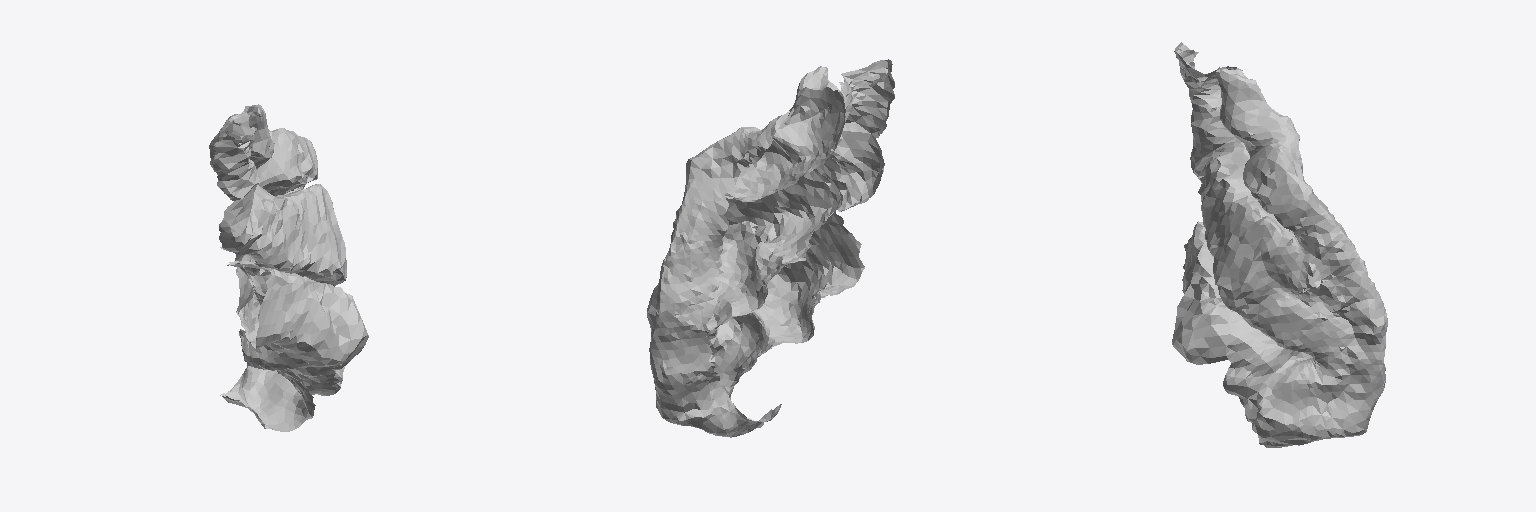
The model's file is R_lingual.obj.
3 renders of one model, left to right at view 1: azimuth 30°, elevation 25°; view 2: azimuth 150°, elevation 25°; view 3: azimuth 270°, elevation 25°, orthographic.
Parts seen in each view (by area): view 1: R_lingual_L_lingual; view 2: R_lingual_L_lingual; view 3: R_lingual_L_lingual.
Boxes of the visible parts, x1=… form: R_lingual_L_lingual: x1=209, y1=104, x2=368, y2=431; R_lingual_L_lingual: x1=647, y1=59, x2=894, y2=437; R_lingual_L_lingual: x1=1172, y1=42, x2=1387, y2=447.
Bounding box in the file's own units: 96.93 × 190 × 105.